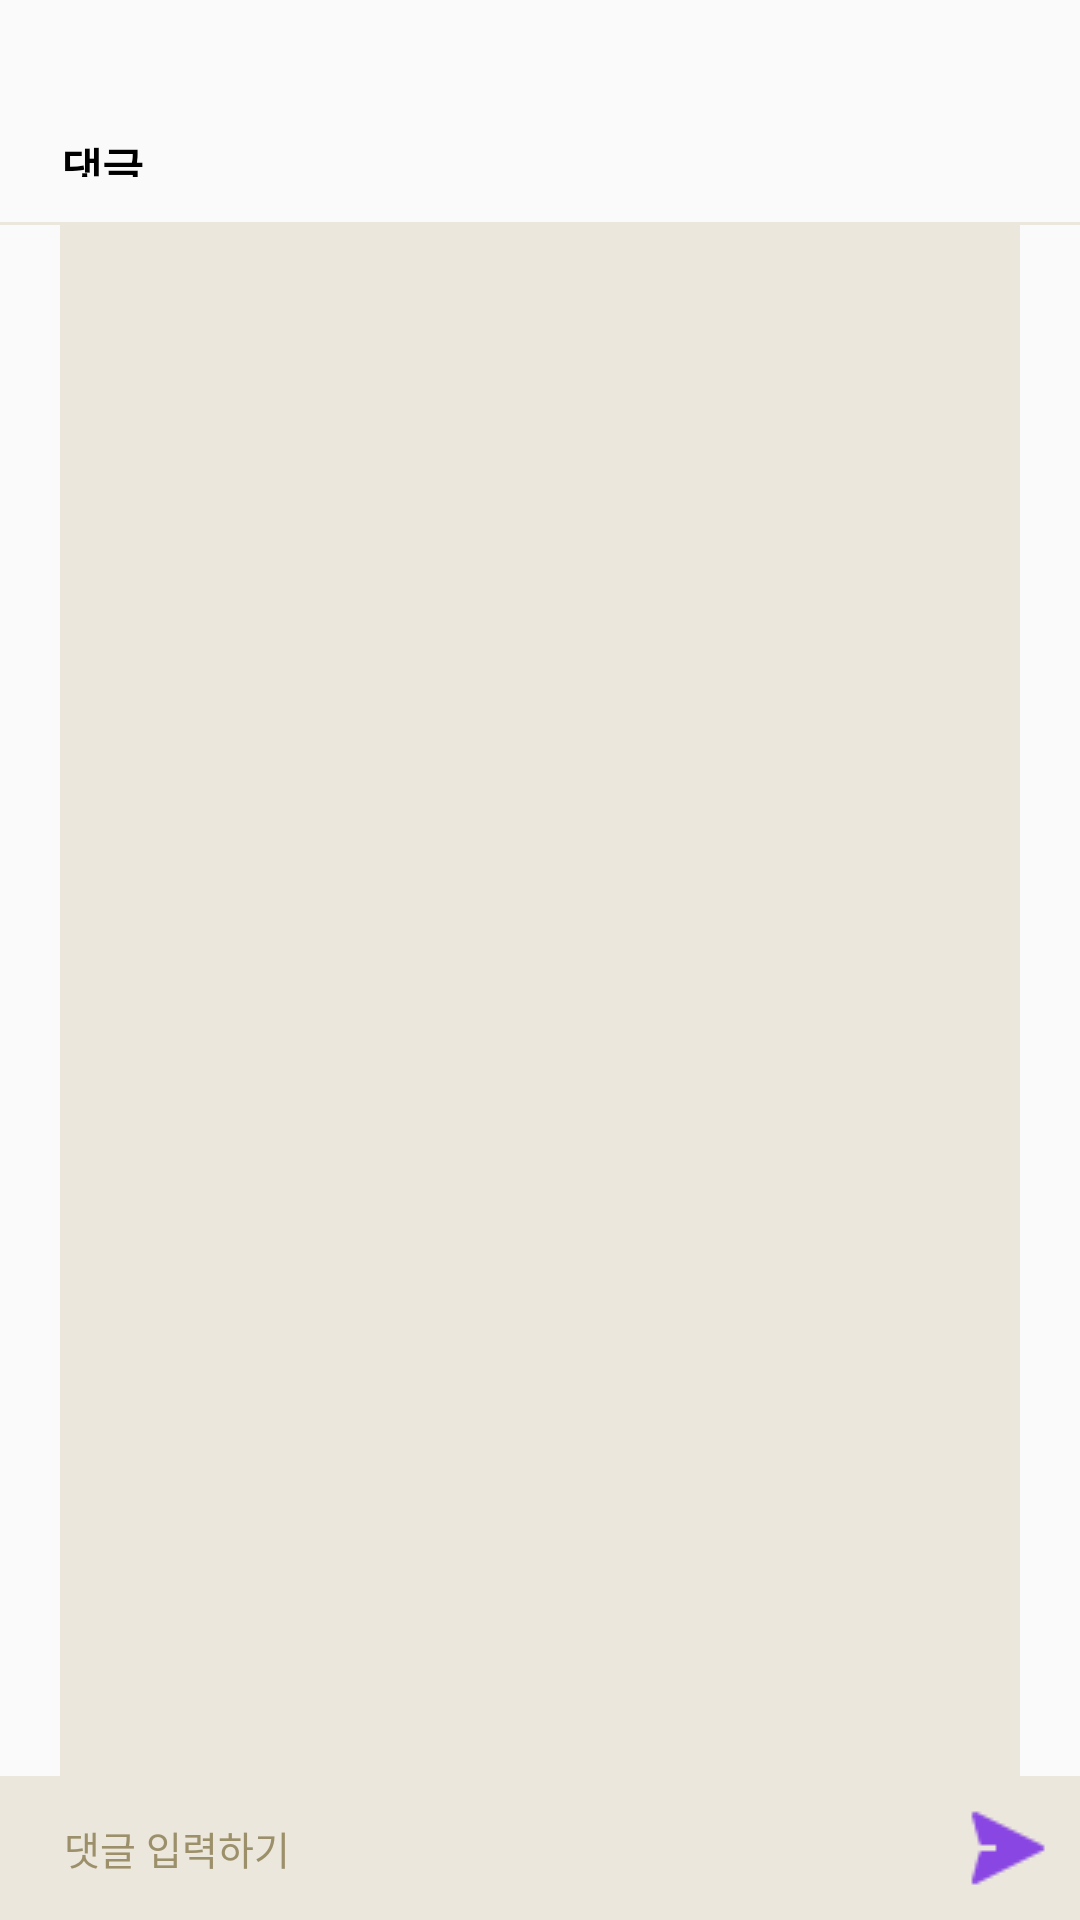

Locate icon controls on the screen. Image size 1080px×1920px, boxes as (x1, y1, x2, y2).
send: (971, 1811, 1045, 1885)
